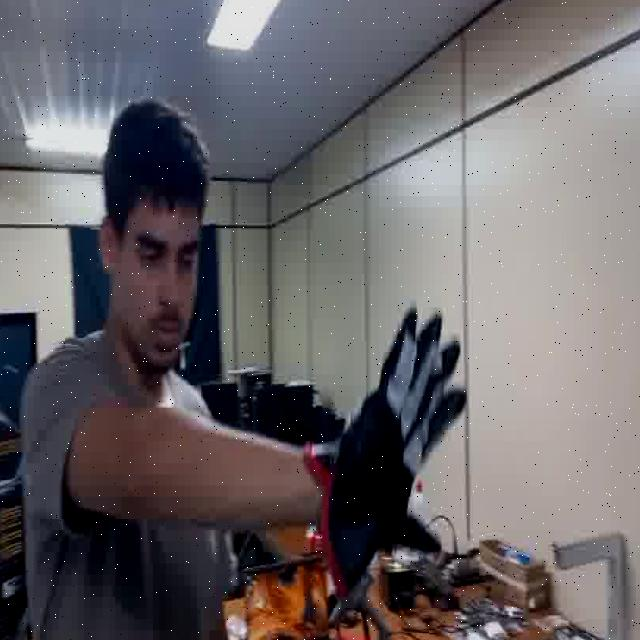Gloves: (315, 297, 468, 579)
